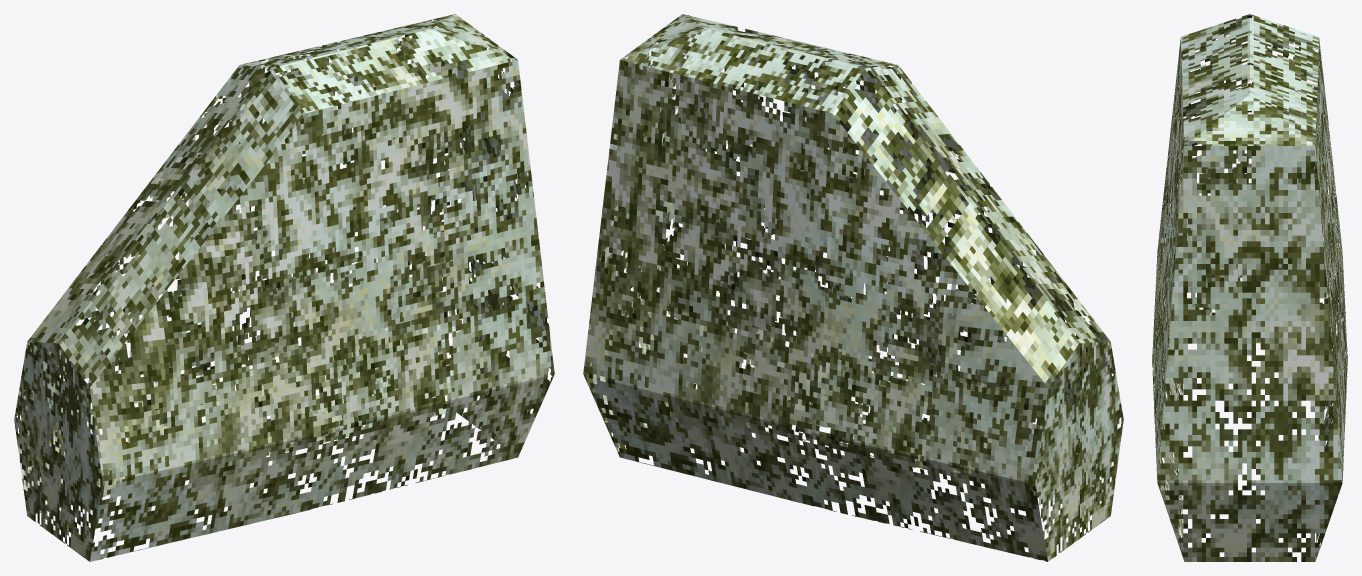
File: bush_connector_high_end_winter.glb
3 renders of one model, left to right at view 1: azimuth 30°, elevation 25°; view 2: azimuth 150°, elevation 25°; view 3: azimuth 270°, elevation 25°, orthographic. The views are drawn at different scales.
Parts seen in each view (by area): view 1: bush_connector_high_end_winter; view 2: bush_connector_high_end_winter; view 3: bush_connector_high_end_winter.
Part boxes in pixels (<box>): bush_connector_high_end_winter: <box>14,14,554,561</box>; bush_connector_high_end_winter: <box>583,14,1123,561</box>; bush_connector_high_end_winter: <box>1152,14,1347,561</box>.
Size of the model in its own units: 2.12 by 1.88 by 0.7592.
Materials: 1 (1 with a texture image).
